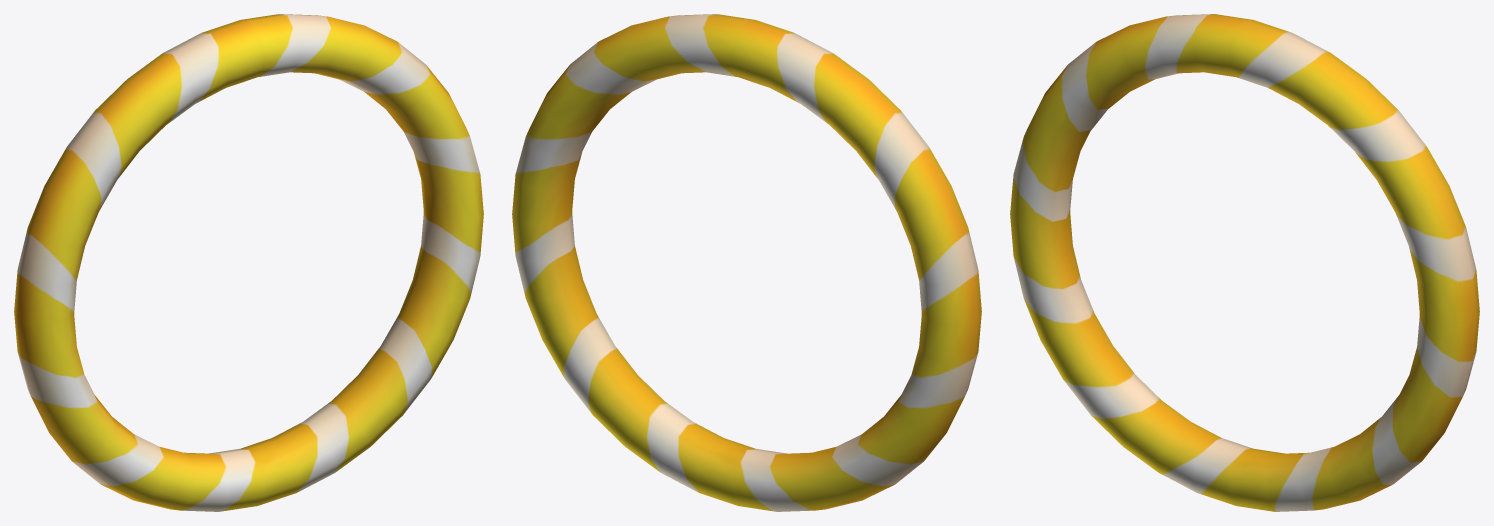
The model's file is HuLaQuan3.FBX.
The picture shows the model from 3 angles, left to right: view 1: azimuth 30°, elevation 25°; view 2: azimuth 150°, elevation 25°; view 3: azimuth 330°, elevation 25°; orthographic projection.
Visible parts, largest first — view 1: HulaQuan; view 2: HulaQuan; view 3: HulaQuan.
Part boxes in pixels (left/top/right/bottom): HulaQuan: left=14, top=14, right=483, bottom=511; HulaQuan: left=512, top=14, right=981, bottom=511; HulaQuan: left=1010, top=14, right=1479, bottom=511.
Bounding box in the file's own units: 110 × 110 × 11.89.
